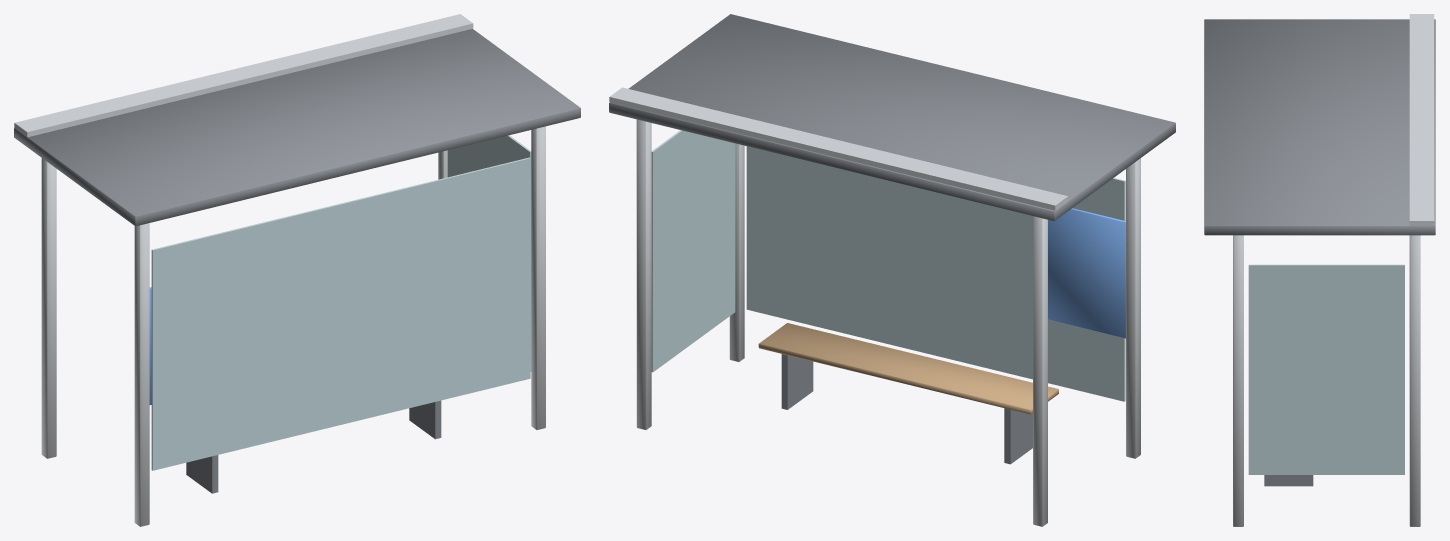
The model's file is BusShelter.fbx.
The picture shows the model from 3 angles, left to right: view 1: azimuth 30°, elevation 25°; view 2: azimuth 150°, elevation 25°; view 3: azimuth 270°, elevation 25°; orthographic projection. The views are drawn at different scales.
Parts seen in each view (by area): view 1: LOD0; view 2: LOD0; view 3: LOD0.
Part boxes in pixels (x1,y1,x2,y2): LOD0: (14, 14, 580, 526); LOD0: (609, 14, 1175, 526); LOD0: (1204, 14, 1435, 526).
Size of what is drawn, in the model's own units: 360 by 256 by 170.
